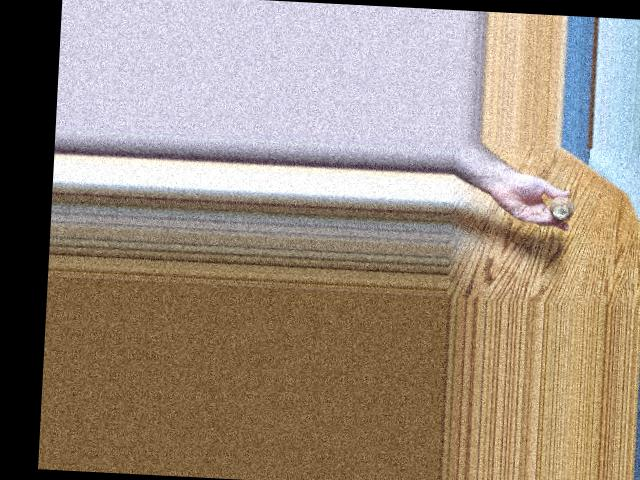sweet_potato: (551, 192, 575, 220)
